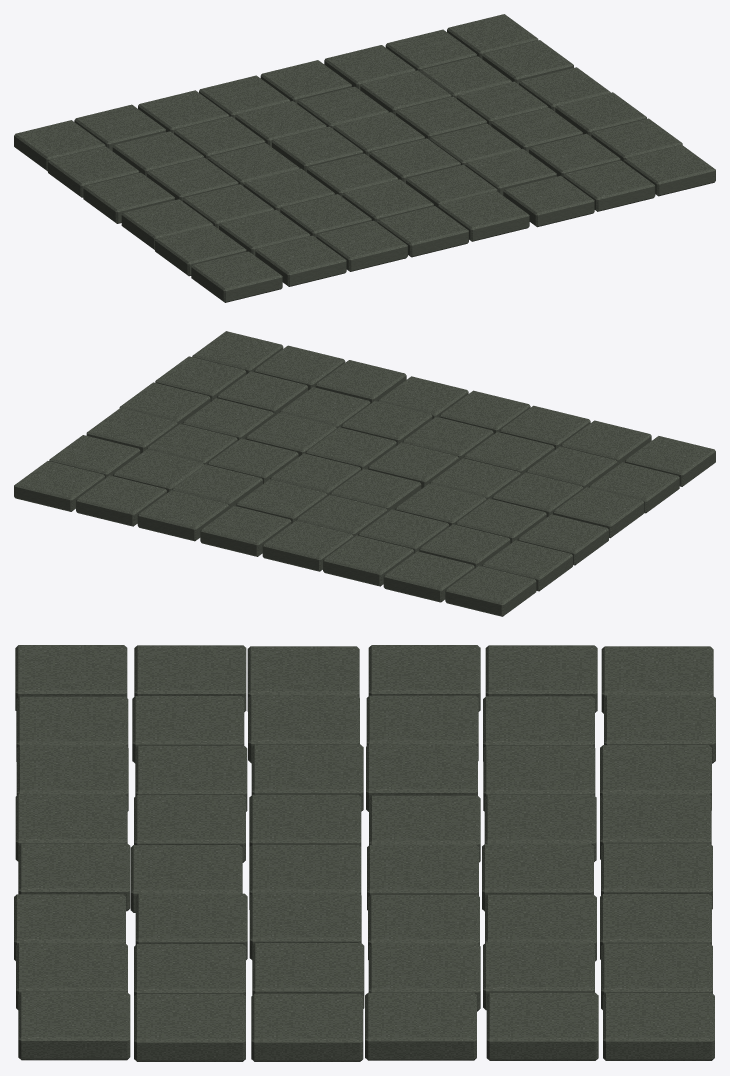
The model's file is level_camp_patio.glb.
3 views of the same model, one above another, from view 1: azimuth 30°, elevation 25°; view 2: azimuth 150°, elevation 25°; view 3: azimuth 270°, elevation 25° (orthographic). The views are drawn at different scales.
Visible parts, largest first — view 1: level_camp_patio; view 2: level_camp_patio; view 3: level_camp_patio.
Boxes of the visible parts, left/top/right/bottom form: level_camp_patio: left=14, top=14, right=715, bottom=302; level_camp_patio: left=14, top=331, right=715, bottom=616; level_camp_patio: left=14, top=645, right=715, bottom=1061.
Size of the model in its own units: 4 by 0.11 by 3.
Materials: 1 (1 with a texture image).
